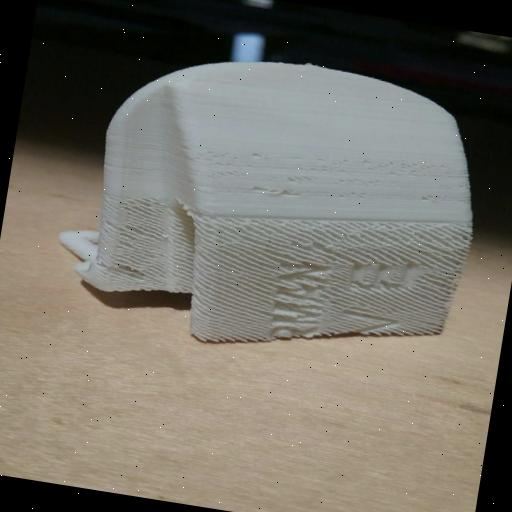cracks: (82, 186, 218, 310)
under_extrusion: (187, 116, 478, 232)
